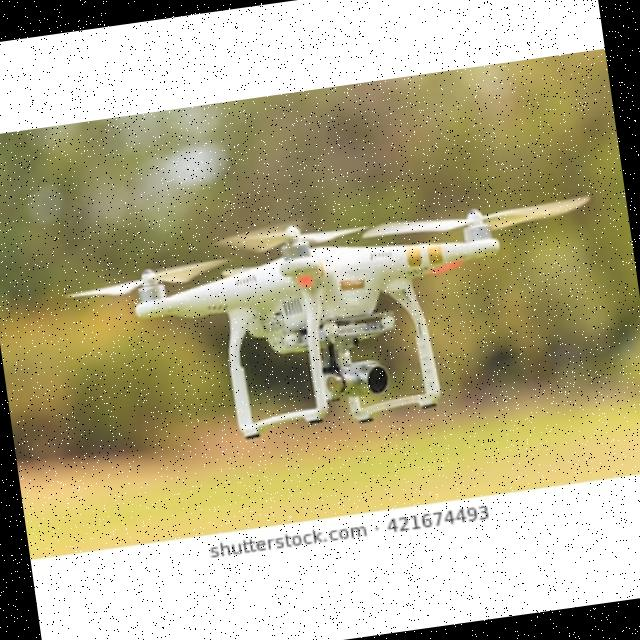Drones: (126, 183, 584, 445)
